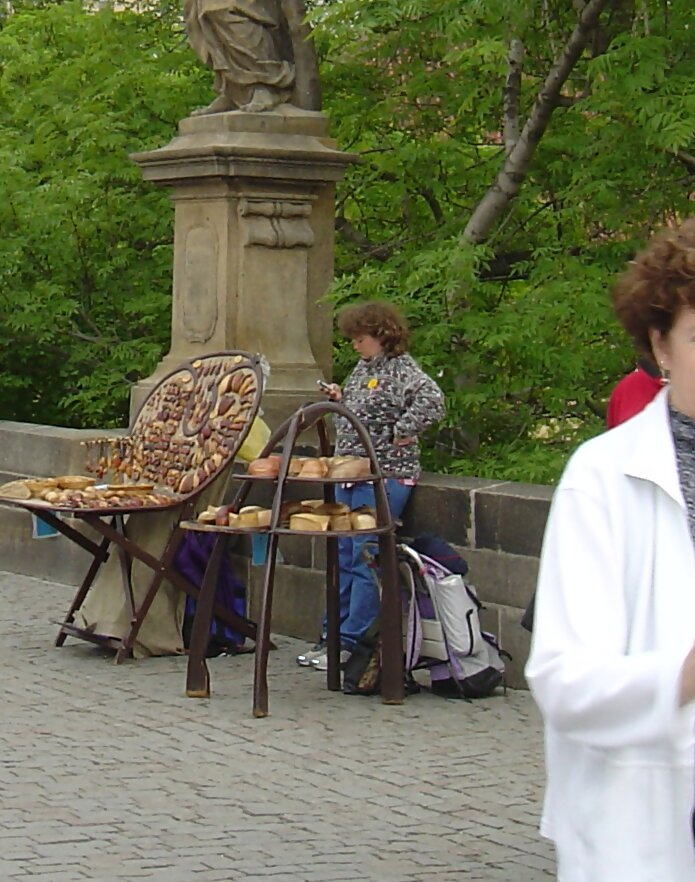person: (522, 216, 695, 882), (296, 291, 451, 687)
